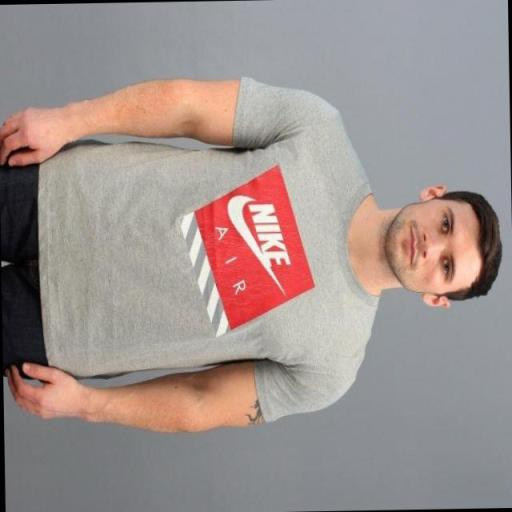Nike: (247, 200, 289, 270), (226, 193, 255, 267)
